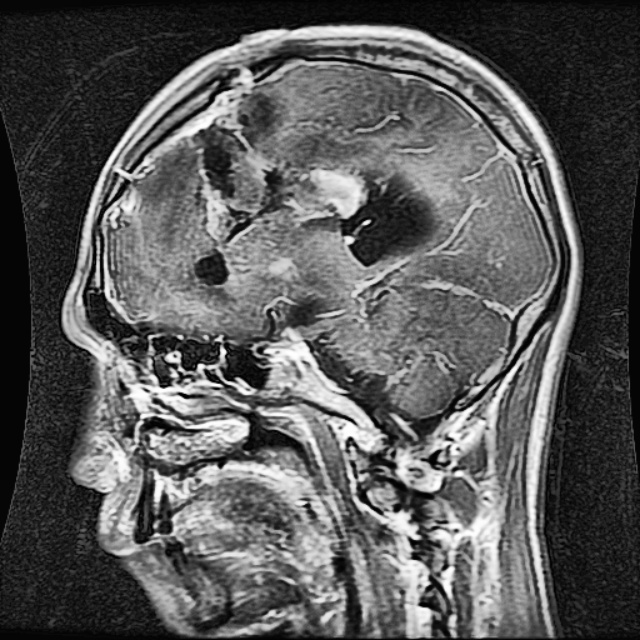Meningioma: (193, 89, 437, 285)
